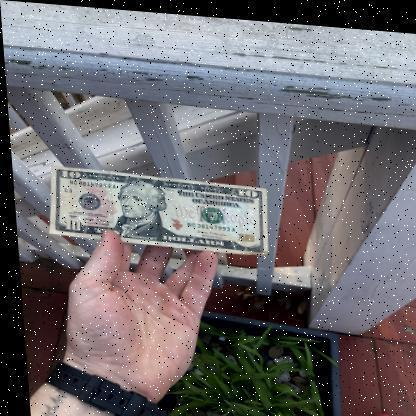ten-front: (45, 165, 266, 254)
